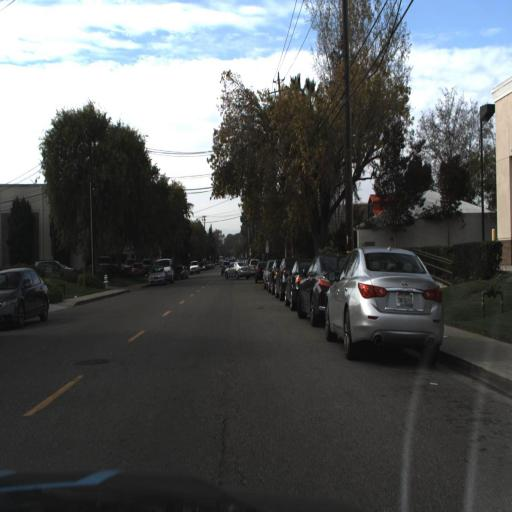car: (324, 244, 448, 358), (0, 266, 50, 330), (297, 250, 331, 324), (221, 257, 253, 282), (132, 262, 158, 290)
